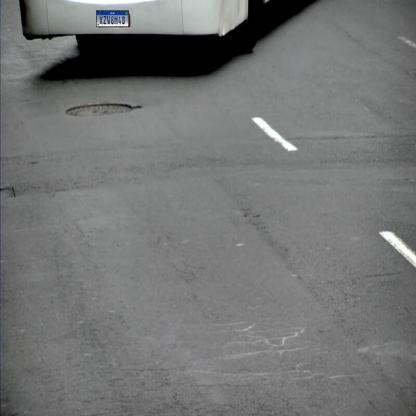PlacaM: (96, 10, 129, 27)
